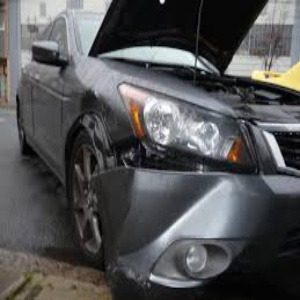bumper: (101, 156, 235, 300)
